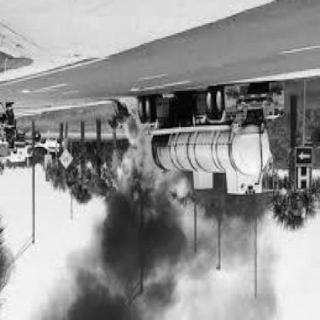Smoke: (216, 224, 244, 274), (246, 278, 276, 316)
